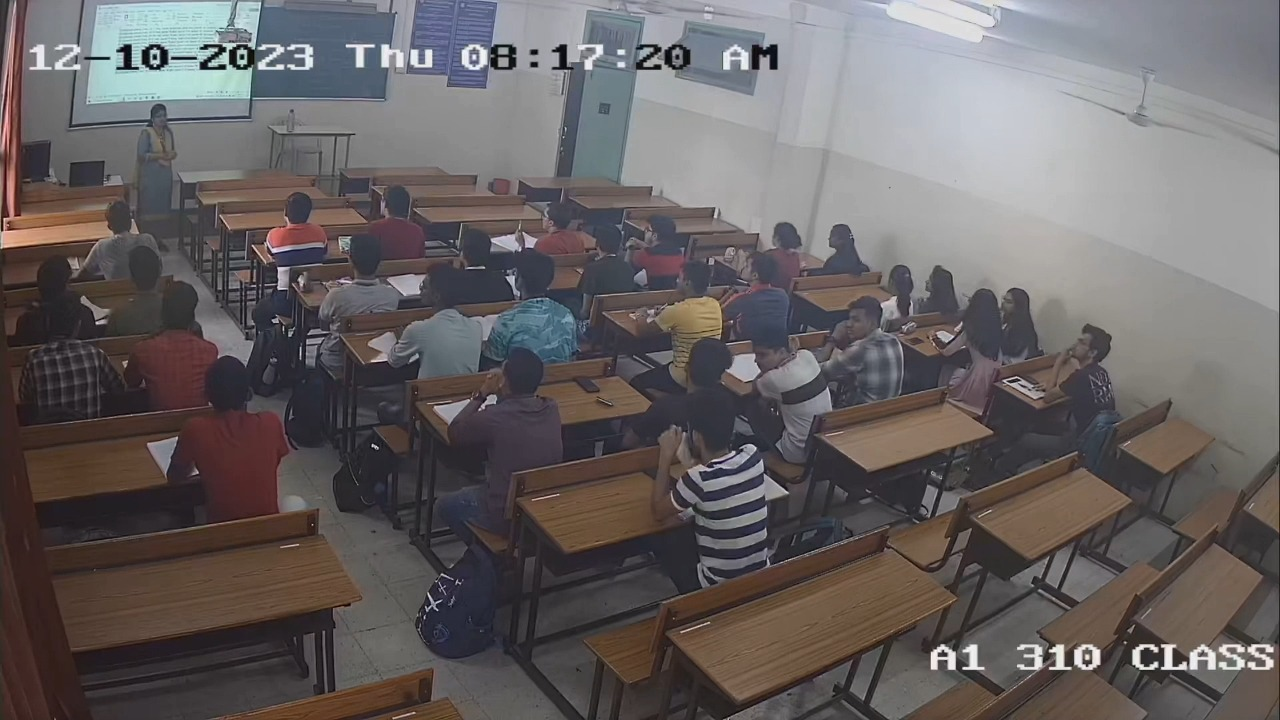cell-phones: (572, 373, 602, 394), (904, 336, 926, 347)
person: (673, 329, 761, 409), (934, 289, 1004, 368)
